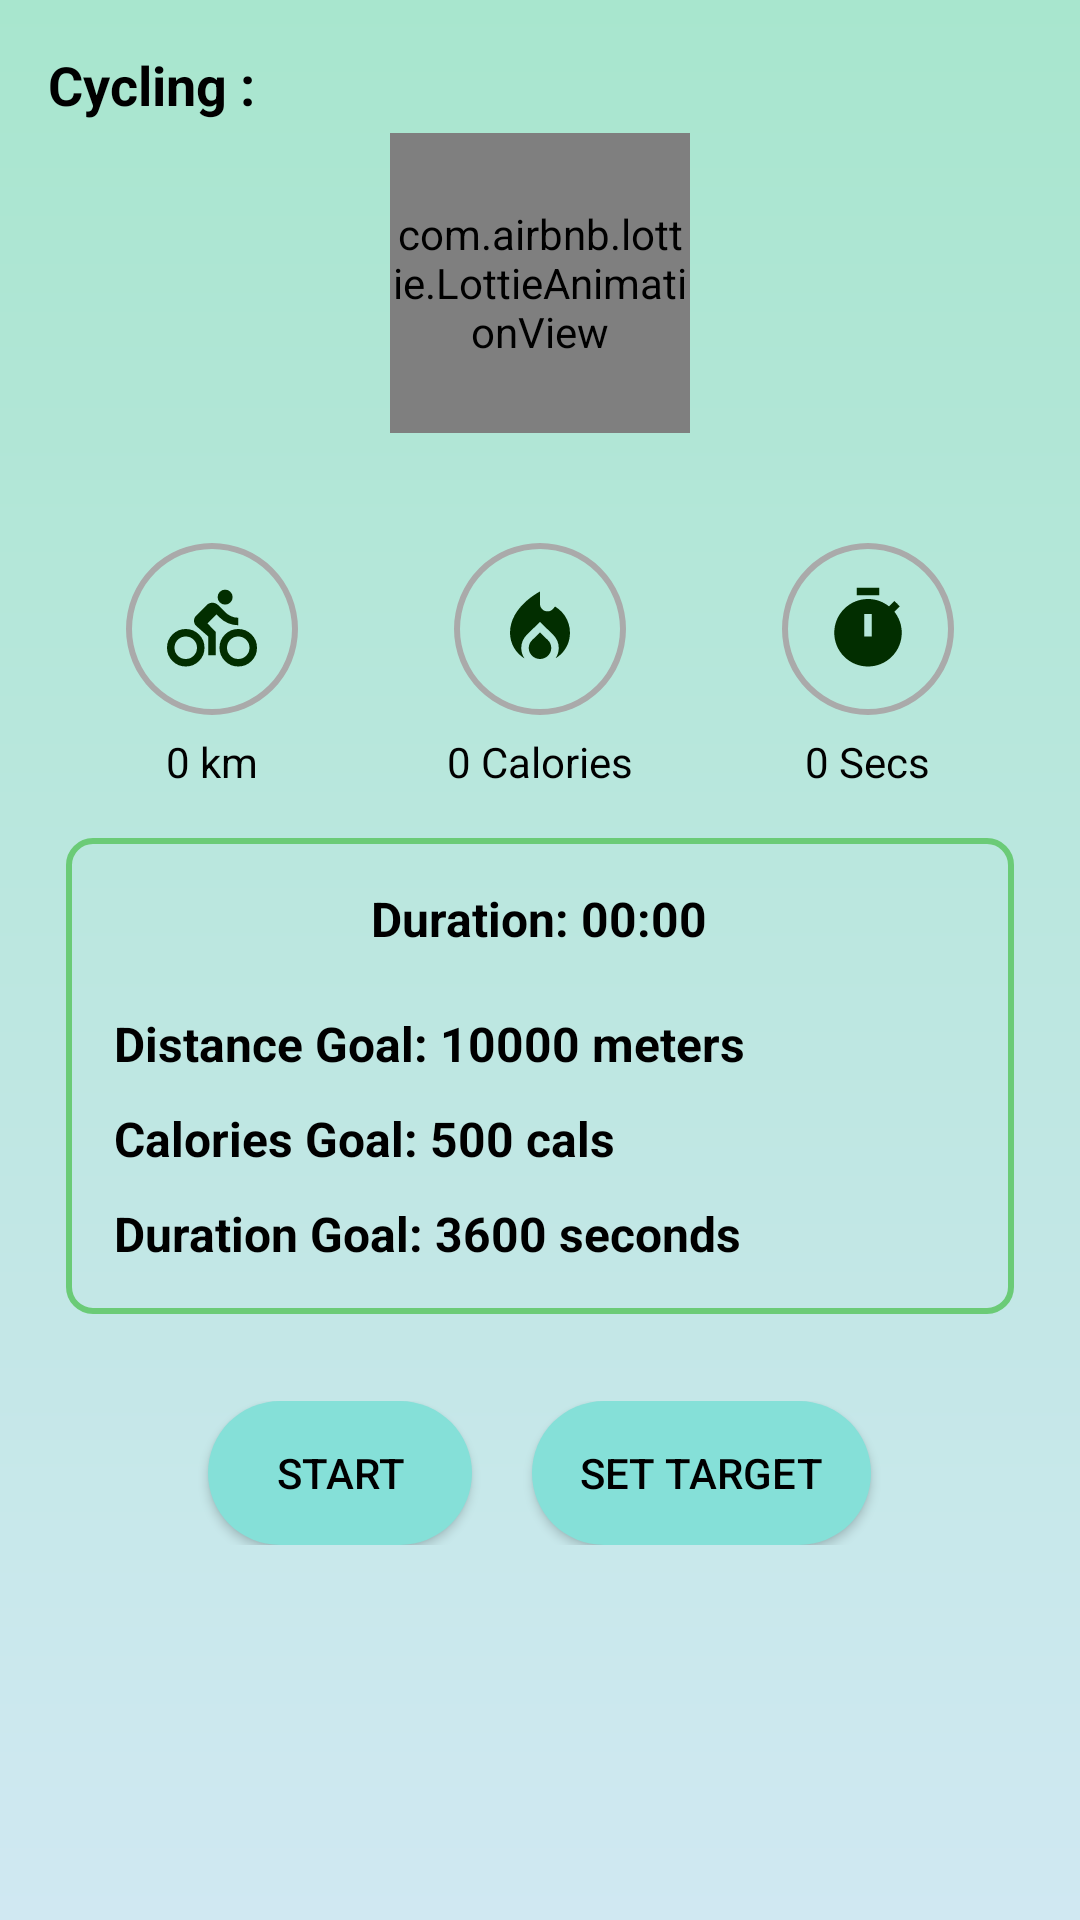

Point at icon controls on the screen. Image size 1080*1920, points as (x,y).
burn: (540,625)
cycling: (212,628)
timer: (868,627)
